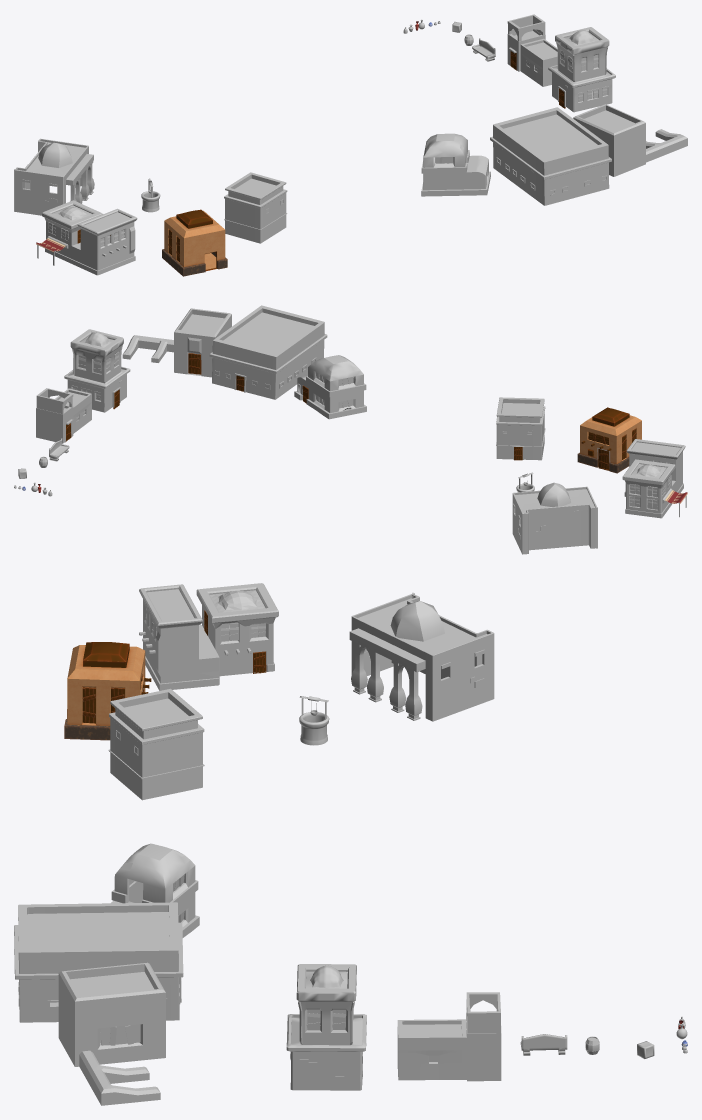
The model's file is Casas2.fbx.
3 renders of one model, top to bottom at view 1: azimuth 30°, elevation 25°; view 2: azimuth 150°, elevation 25°; view 3: azimuth 270°, elevation 25°, orthographic. The views are drawn at different scales.
Visible parts, largest first — view 1: Casa_E, Casa_a, mercado, casa_b, casa_g, casa_f, casa_d, casaD, casa_c, Pozo; view 2: Casa_E, mercado, Casa_a, casa_g, casa_b, casa_d, casa_f, casaD, casa_c; view 3: Casa_E, mercado, casa_g, Casa_a, casa_f, casa_b, casa_c, casaD, casa_d, Pozo, Banca.
Boxes of the visible parts, x1,y1,x2,y2 form: Casa_E: [490, 107, 611, 205]; Casa_a: [42, 200, 137, 275]; mercado: [14, 138, 94, 215]; casa_b: [548, 27, 615, 112]; casa_g: [573, 104, 687, 176]; casa_f: [224, 172, 287, 243]; casa_d: [421, 133, 490, 196]; casaD: [162, 209, 227, 276]; casa_c: [507, 14, 557, 86]; Pozo: [141, 178, 160, 212]; Casa_E: [209, 305, 327, 399]; mercado: [512, 482, 597, 554]; Casa_a: [622, 439, 685, 518]; casa_g: [122, 308, 231, 377]; casa_b: [64, 329, 130, 412]; casa_d: [294, 355, 366, 419]; casa_f: [496, 397, 545, 460]; casaD: [577, 407, 641, 473]; casa_c: [36, 388, 91, 443]; Casa_E: [14, 902, 183, 1022]; mercado: [349, 592, 494, 721]; casa_g: [58, 962, 165, 1105]; Casa_a: [139, 583, 278, 690]; casa_f: [108, 688, 204, 800]; casa_b: [286, 964, 366, 1090]; casa_c: [397, 992, 501, 1081]; casaD: [64, 642, 145, 740]; casa_d: [111, 843, 199, 937]; Pozo: [299, 696, 329, 745]; Banca: [520, 1034, 567, 1055].
Size of the model in its own units: 55.91 by 6.28 by 34.06.
